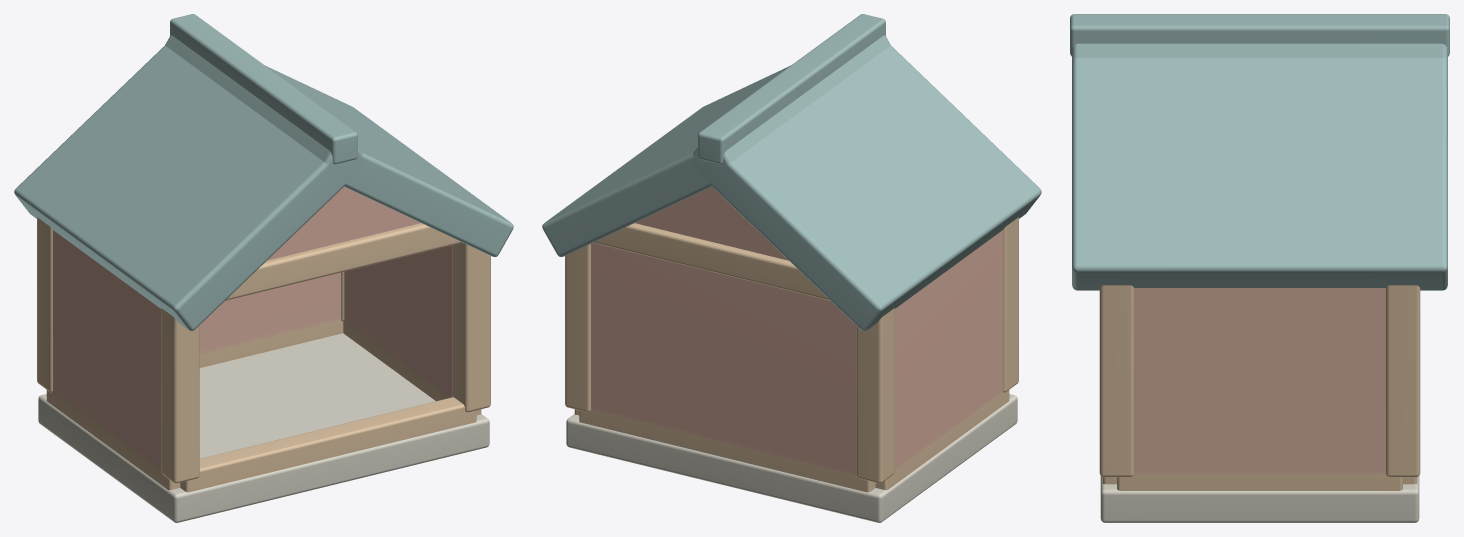
Rendered from chicken-coop-roof.glb.
3 views of the same model, side by side, from view 1: azimuth 30°, elevation 25°; view 2: azimuth 150°, elevation 25°; view 3: azimuth 270°, elevation 25° (orthographic). The views are drawn at different scales.
Parts seen in each view (by area): view 1: Padded roof plane.020, Rounded stone footing.026, Side panel.020, Padded roof plane.021, Side panel.021, Sill beam.104, Ridge cap.010, Back panel.008, Corner post.078, Corner post.076, Eave beam.032, Gable cladding.020 (+4 smaller); view 2: Padded roof plane.020, Back panel.008, Side panel.020, Padded roof plane.021, Rounded stone footing.026, Ridge cap.010, Corner post.077, Eave beam.033, Sill beam.105, Gable cladding.021, Corner post.079, Corner post.076 (+1 smaller); view 3: Padded roof plane.021, Side panel.021, Ridge cap.010, Rounded stone footing.026, Corner post.078, Corner post.079, Padded roof plane.020, Sill beam.107.
Boxes of the visible parts, left/top/right/bottom form: Padded roof plane.020: left=14, top=45, right=365, bottom=330; Rounded stone footing.026: left=38, top=333, right=489, bottom=522; Side panel.020: left=53, top=230, right=160, bottom=469; Padded roof plane.021: left=165, top=35, right=513, bottom=256; Side panel.021: left=344, top=245, right=452, bottom=397; Sill beam.104: left=180, top=397, right=476, bottom=492; Ridge cap.010: left=170, top=14, right=357, bottom=164; Back panel.008: left=199, top=272, right=340, bottom=353; Corner post.078: left=452, top=243, right=490, bottom=412; Corner post.076: left=161, top=308, right=199, bottom=483; Eave beam.032: left=225, top=223, right=462, bottom=300; Gable cladding.020: left=267, top=187, right=420, bottom=260; Padded roof plane.020: left=690, top=45, right=1041, bottom=330; Back panel.008: left=591, top=243, right=856, bottom=474; Side panel.020: left=895, top=230, right=1002, bottom=469; Padded roof plane.021: left=542, top=35, right=890, bottom=256; Rounded stone footing.026: left=566, top=394, right=1017, bottom=522; Ridge cap.010: left=698, top=14, right=885, bottom=164; Corner post.077: left=856, top=308, right=894, bottom=483; Eave beam.033: left=593, top=223, right=830, bottom=300; Sill beam.105: left=579, top=408, right=875, bottom=492; Gable cladding.021: left=635, top=187, right=788, bottom=260; Corner post.079: left=565, top=244, right=590, bottom=412; Corner post.076: left=1003, top=217, right=1018, bottom=392; Padded roof plane.021: left=1072, top=58, right=1447, bottom=290; Side panel.021: left=1134, top=288, right=1385, bottom=474; Ridge cap.010: left=1070, top=14, right=1449, bottom=56; Rounded stone footing.026: left=1100, top=476, right=1419, bottom=522; Corner post.078: left=1099, top=285, right=1133, bottom=477; Corner post.079: left=1386, top=285, right=1420, bottom=477; Padded roof plane.020: left=1072, top=43, right=1447, bottom=59; Sill beam.107: left=1117, top=471, right=1402, bottom=490.
Bounding box in the file's own units: 2.22 × 2.25 × 1.86.
